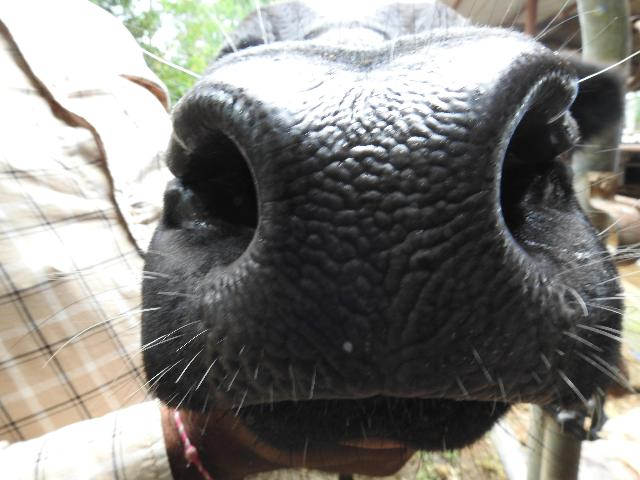Muzzle: (256, 77, 494, 398)
